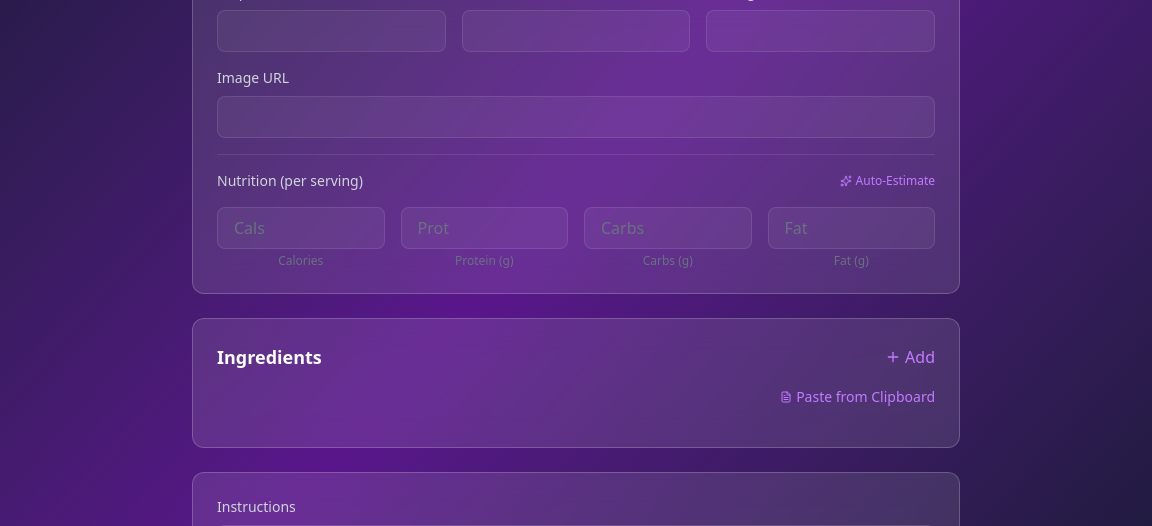
Test: RecipeEditor › allows adding ingredients
The width and height of the screenshot is (1152, 526).
(page scrolled)
Click the button "Add" at (910, 357), box [885, 345, 935, 369]
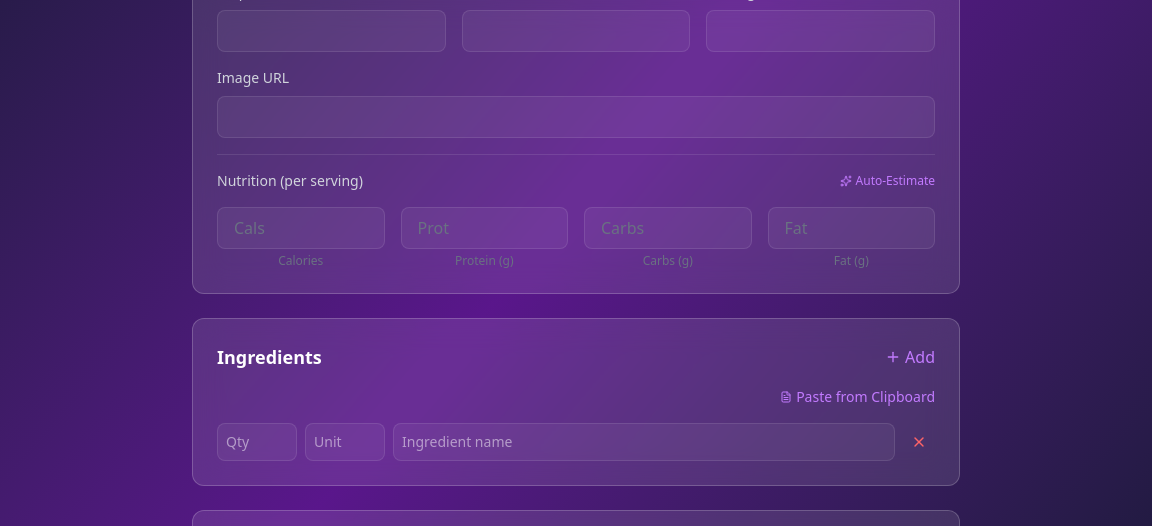
Expected: the field with placeholder "Ingredient name" is shown, [393, 423, 895, 461]
